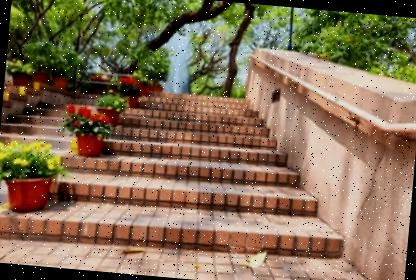stair: (124, 78, 338, 264)
